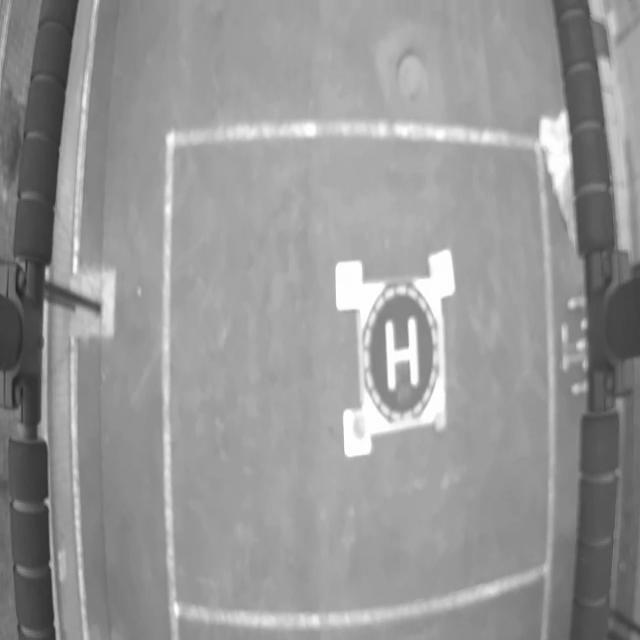Helipad: (384, 315, 420, 393)
